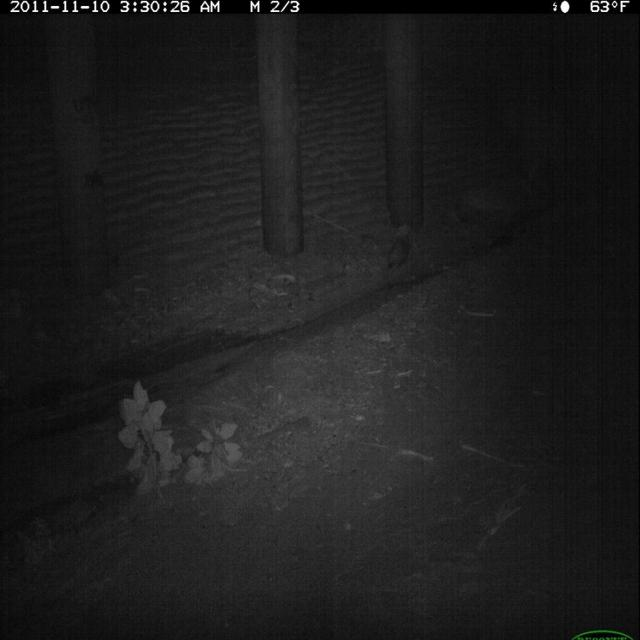opossum: (385, 226, 416, 276)
